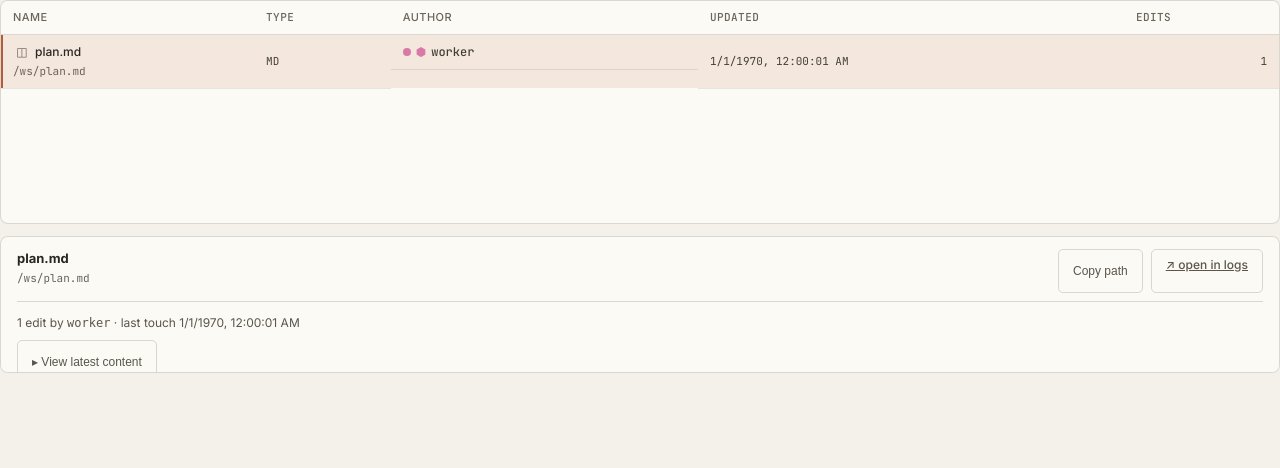
Scenario: ArtifactsView content disclosure (H3 UI) › expanding lazily fetches the latest mutation content
Click the button with class "artifact-content-toggle" at [87, 362], box 17,340 -> 157,384
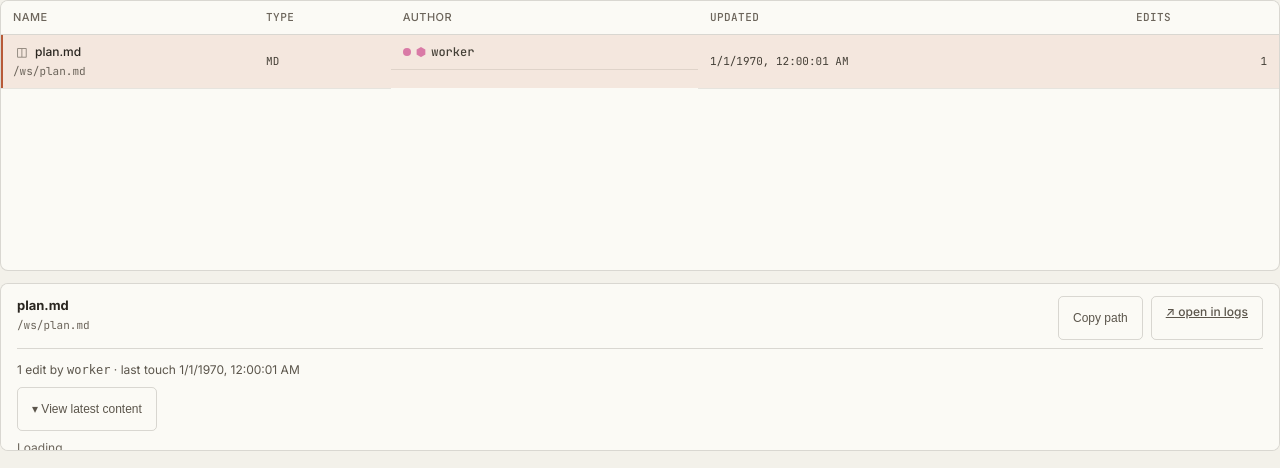
Expected: the text with class "artifact-content-hint" shows "Loading", 17,440 -> 73,451
